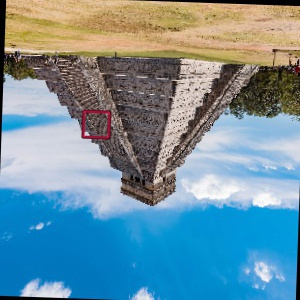square: (77, 107, 114, 142)
